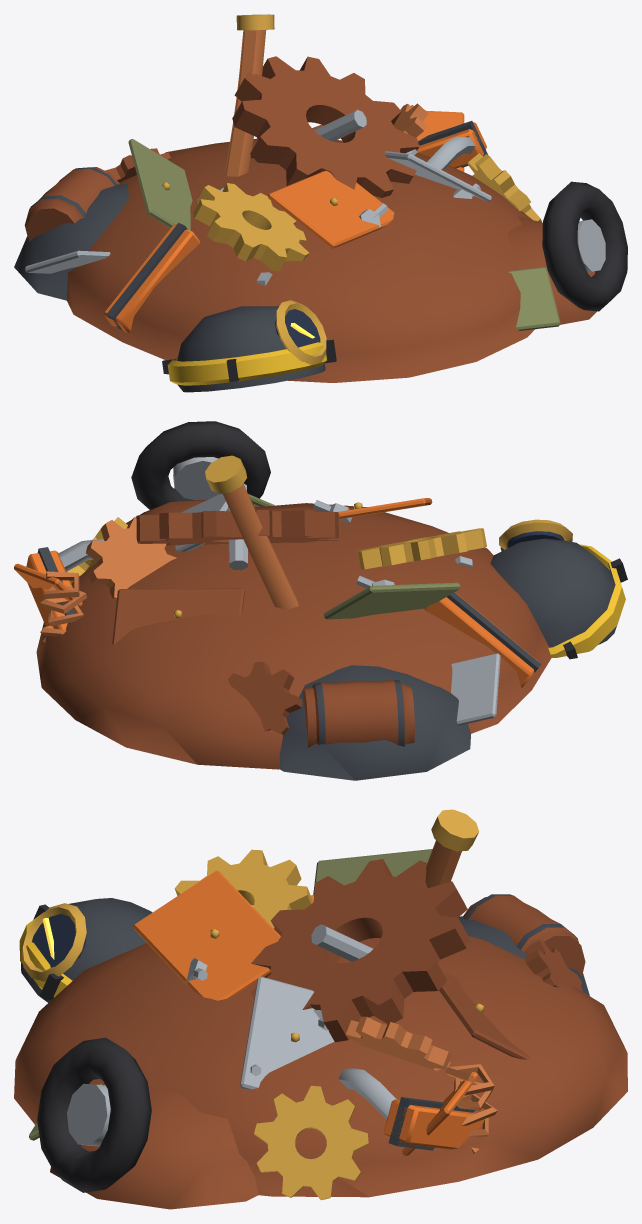
Rendered from prop_scrap_pile.glb.
3 renders of one model, top to bottom at view 1: azimuth 30°, elevation 25°; view 2: azimuth 150°, elevation 25°; view 3: azimuth 270°, elevation 25°, orthographic. The views are drawn at different scales.
Parts seen in each view (by area): view 1: ScrapPile; view 2: ScrapPile; view 3: ScrapPile.
Boxes of the visible parts, x1,y1,x2,y2 form: ScrapPile: (14,14,627,392); ScrapPile: (14,421,627,780); ScrapPile: (14,809,627,1209).
Size of what is drawn, in the model's own units: 3.99 by 1.82 by 3.83.
